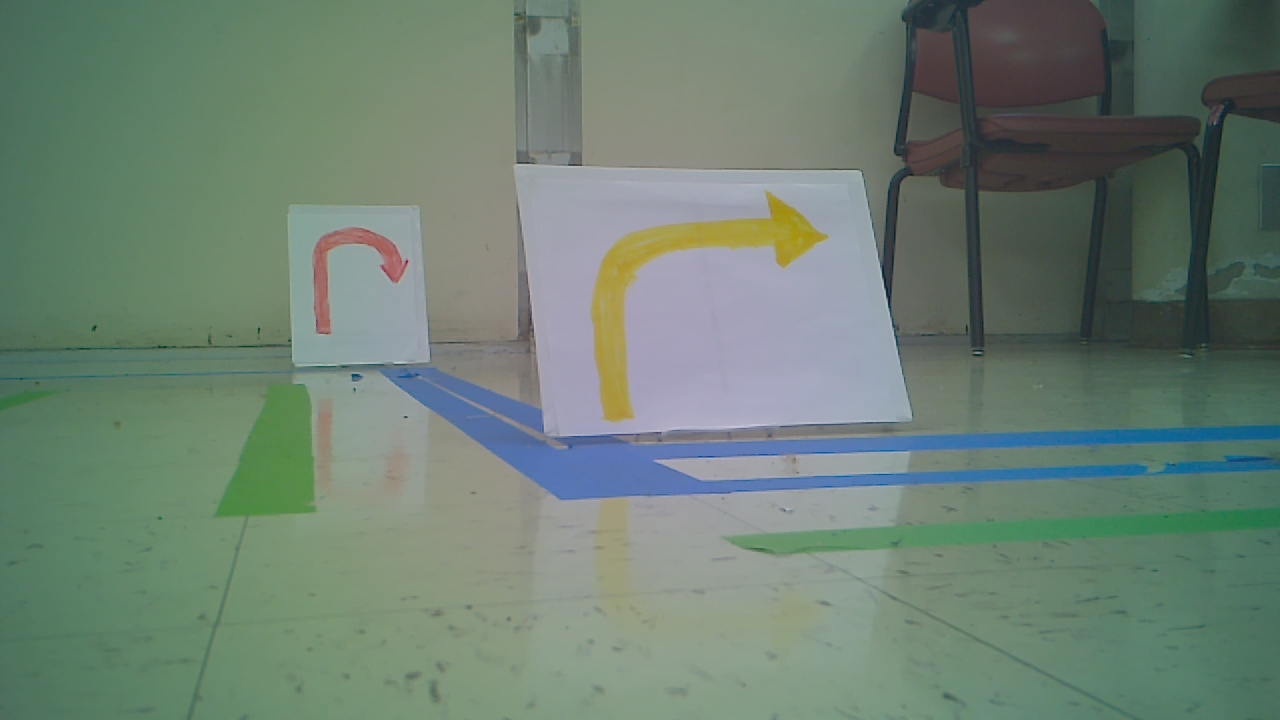greenline: (739, 495, 1276, 559), (223, 380, 321, 512)
right: (582, 191, 827, 420)
uturn: (308, 224, 411, 335)
